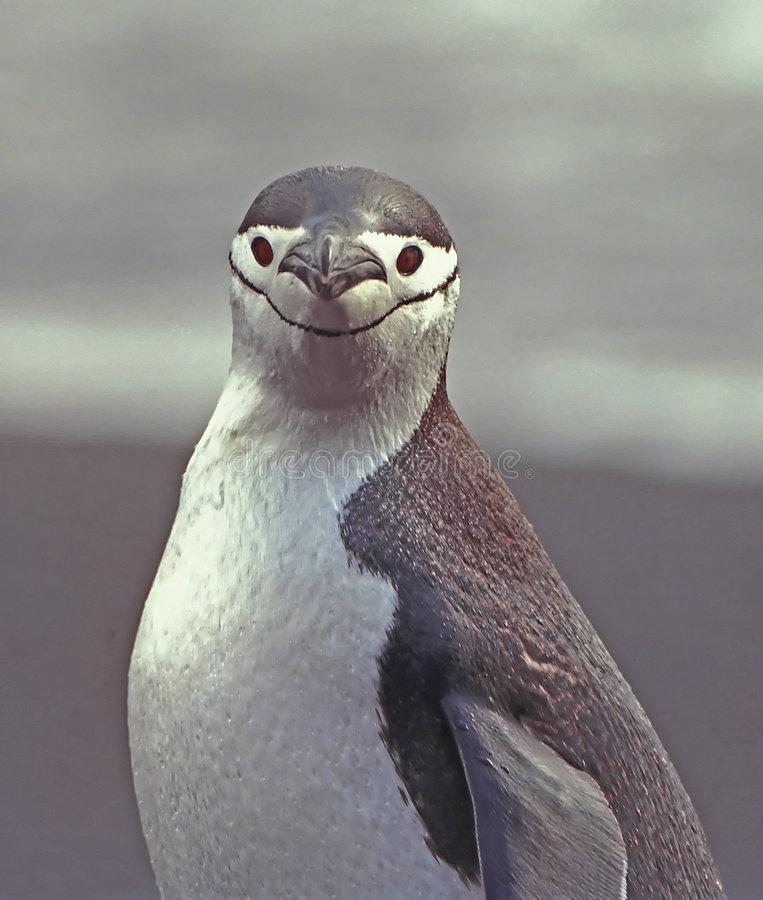chinstrap: (73, 136, 745, 900)
